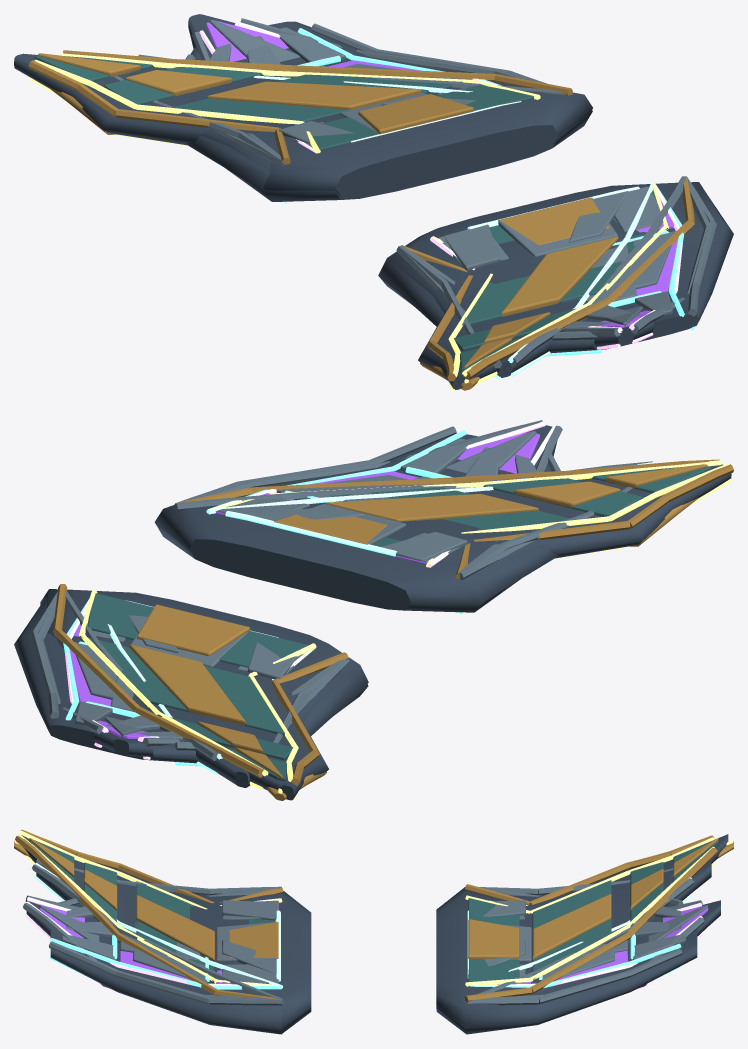
Rendered from wings.glb.
The picture shows the model from 3 angles, top to bottom: view 1: azimuth 30°, elevation 25°; view 2: azimuth 150°, elevation 25°; view 3: azimuth 270°, elevation 25°; orthographic projection. The views are drawn at different scales.
Visible parts, largest first — view 1: w_phantom Champagne gold edging, w_phantom Fitting gunmetal, w_phantom Phantom blue-black enamel, w_razor Fitting gunmetal, w_vane Brushed fitting edges, w_vane Fitting gunmetal, w_razor Brushed fitting edges, w_prism Brushed fitting edges, w_phantom w_phantom emitter, w_razor w_razor emitter, w_prism Violet prismatic glass, w_vane w_vane emitter (+2 smaller); view 2: w_phantom Champagne gold edging, w_razor Fitting gunmetal, w_phantom Phantom blue-black enamel, w_phantom Fitting gunmetal, w_vane Brushed fitting edges, w_vane Fitting gunmetal, w_razor Brushed fitting edges, w_prism Brushed fitting edges, w_phantom w_phantom emitter, w_razor w_razor emitter, w_vane w_vane emitter, w_prism Violet prismatic glass (+2 smaller); view 3: w_phantom Champagne gold edging, w_vane Fitting gunmetal, w_vane Brushed fitting edges, w_phantom Phantom blue-black enamel, w_phantom Fitting gunmetal, w_razor Fitting gunmetal, w_razor Brushed fitting edges, w_prism Brushed fitting edges, w_phantom w_phantom emitter, w_vane w_vane emitter, w_razor w_razor emitter, w_prism Violet prismatic glass (+2 smaller).
Part boxes in pixels (box(x1,y1,x2,y2)): w_phantom Champagne gold edging: box(28, 50, 694, 390); w_phantom Fitting gunmetal: box(14, 53, 675, 389); w_phantom Phantom blue-black enamel: box(35, 56, 668, 371); w_razor Fitting gunmetal: box(203, 110, 671, 377); w_vane Brushed fitting edges: box(185, 23, 716, 340); w_vane Fitting gunmetal: box(186, 21, 733, 353); w_razor Brushed fitting edges: box(114, 54, 686, 368); w_prism Brushed fitting edges: box(192, 18, 710, 336); w_phantom w_phantom emitter: box(30, 52, 668, 391); w_razor w_razor emitter: box(253, 75, 654, 379); w_prism Violet prismatic glass: box(206, 20, 677, 327); w_vane w_vane emitter: box(283, 28, 694, 356); w_phantom Champagne gold edging: box(53, 459, 733, 800); w_razor Fitting gunmetal: box(154, 502, 549, 787); w_phantom Phantom blue-black enamel: box(79, 466, 710, 781); w_phantom Fitting gunmetal: box(40, 464, 731, 800); w_vane Brushed fitting edges: box(31, 426, 560, 750); w_vane Fitting gunmetal: box(14, 434, 558, 763); w_razor Brushed fitting edges: box(65, 461, 652, 760); w_prism Brushed fitting edges: box(37, 420, 562, 746); w_phantom w_phantom emitter: box(79, 460, 732, 798); w_razor w_razor emitter: box(107, 462, 653, 774); w_vane w_vane emitter: box(63, 430, 466, 766); w_prism Violet prismatic glass: box(69, 432, 539, 738); w_phantom Champagne gold edging: box(14, 829, 733, 1002); w_vane Fitting gunmetal: box(50, 904, 697, 1034); w_vane Brushed fitting edges: box(49, 890, 685, 1005); w_phantom Phantom blue-black enamel: box(29, 840, 718, 986); w_phantom Fitting gunmetal: box(21, 834, 728, 1025); w_razor Fitting gunmetal: box(36, 862, 711, 1034); w_razor Brushed fitting edges: box(32, 859, 693, 1004); w_prism Brushed fitting edges: box(23, 888, 708, 999); w_phantom w_phantom emitter: box(14, 830, 733, 986); w_vane w_vane emitter: box(49, 934, 681, 989); w_razor w_razor emitter: box(34, 863, 692, 988); w_prism Violet prismatic glass: box(39, 901, 708, 987).
Size of the model in its own units: 27.59 by 3.86 by 50.65.
